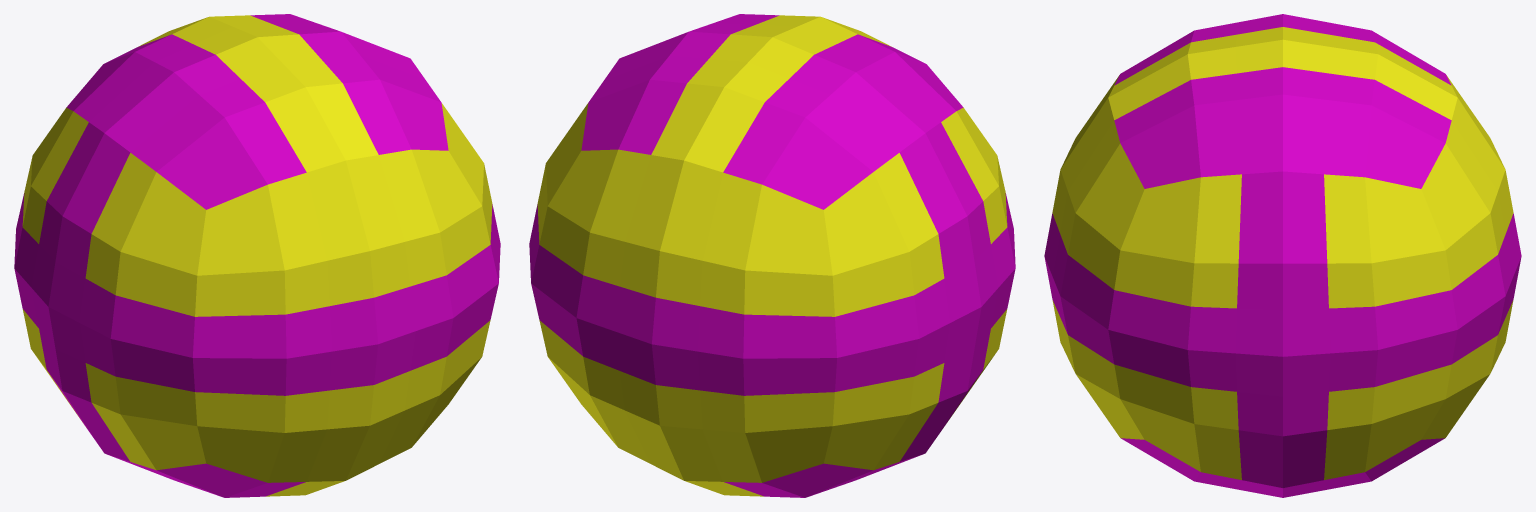
File: Netball.fbx
3 renders of one model, left to right at view 1: azimuth 30°, elevation 25°; view 2: azimuth 150°, elevation 25°; view 3: azimuth 270°, elevation 25°, orthographic.
Visible parts, largest first — view 1: Netball; view 2: Netball; view 3: Netball.
Part boxes in pixels (x1,y1,x2,y2): Netball: [14, 14, 500, 497]; Netball: [529, 14, 1015, 497]; Netball: [1044, 14, 1521, 497].
Bounding box in the file's own units: 193 × 193 × 193.
